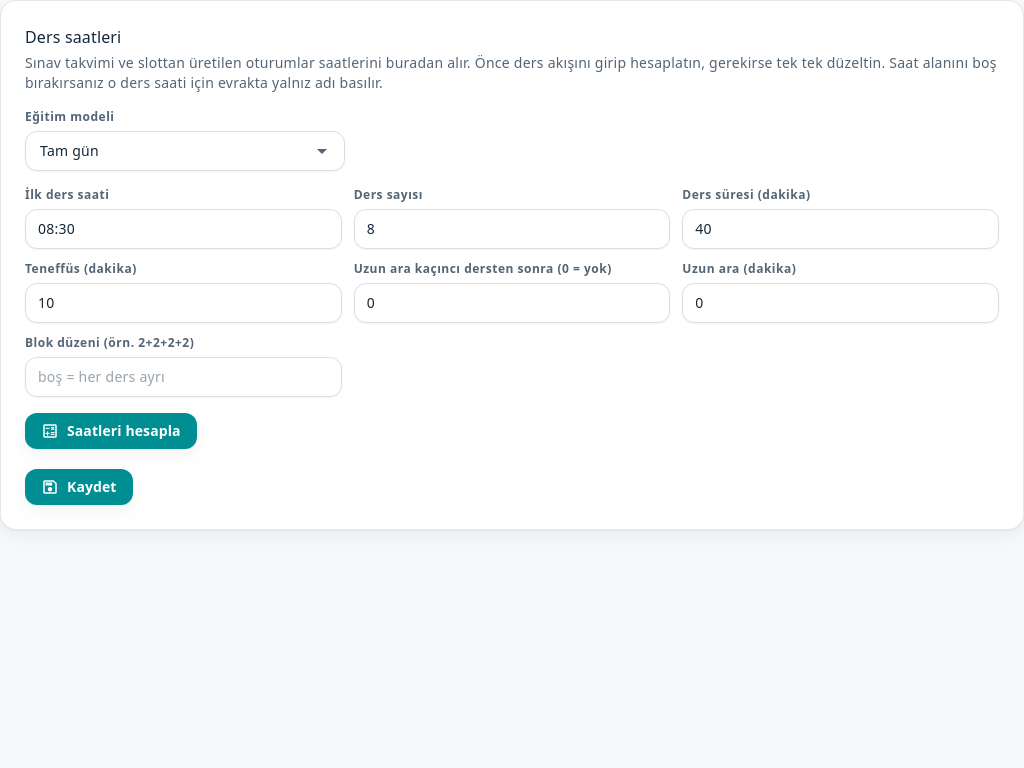
Test case: DersSaatleriPaneli › saatleri BACKEND hesaplar; ön yüz kendi aritmetiğini yapmaz
Step 1. Click the button "Saatleri hesapla" → click(111, 431), box [25, 413, 197, 449]
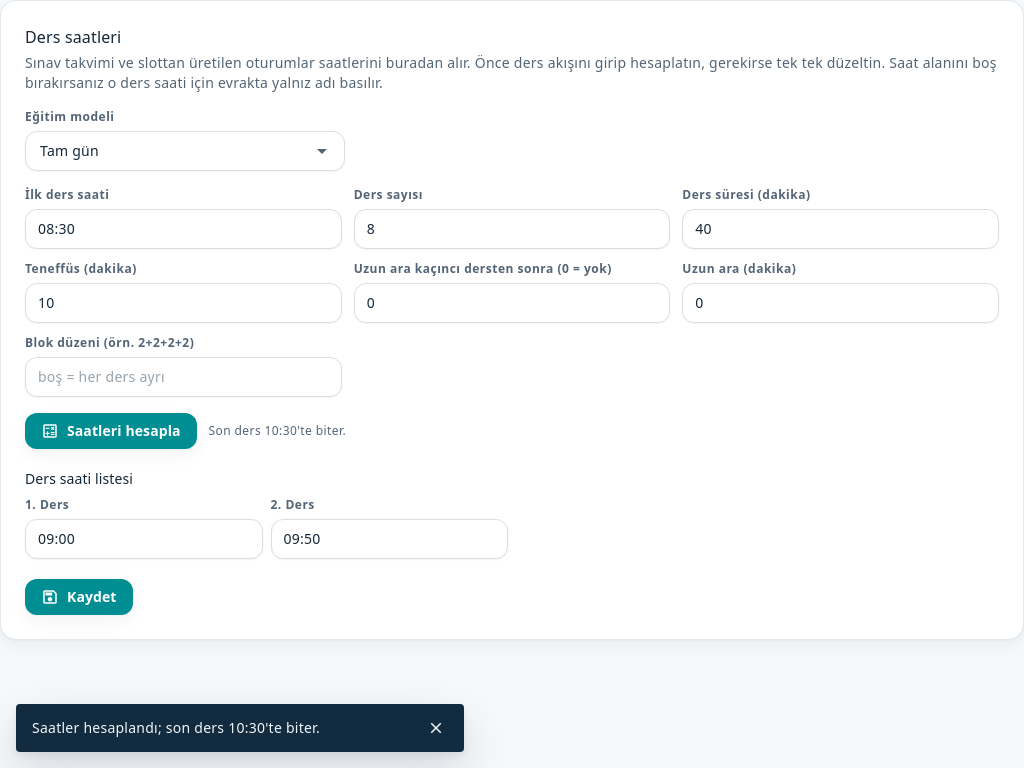
Check: the field labelled "1. Ders" holds "09:00", box [38, 529, 250, 549]
Check: the text "Son ders 10:30'te biter." is shown, box [209, 423, 346, 439]
